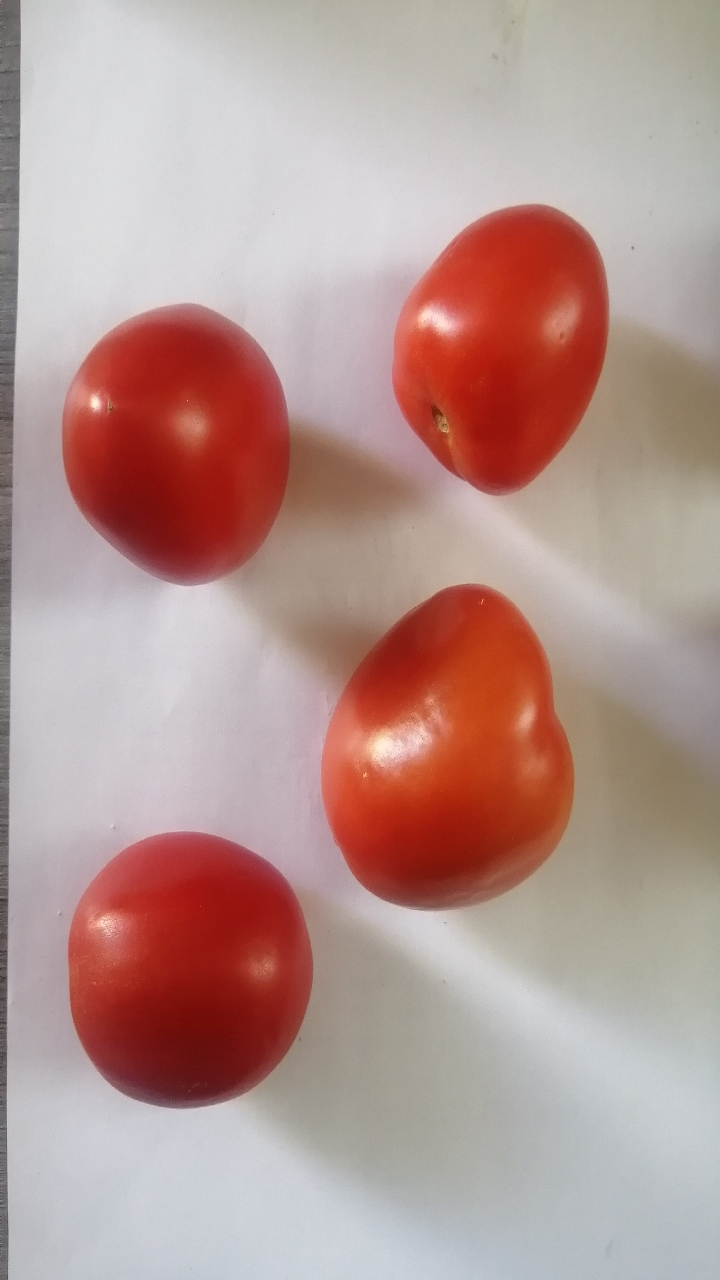tomateRojo: (297, 569, 604, 943), (38, 814, 331, 1126), (28, 279, 298, 611), (368, 185, 617, 520)
